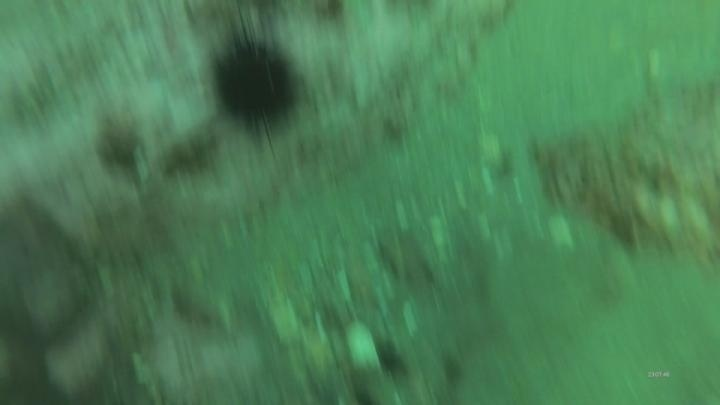echinus: (209, 33, 302, 137)
